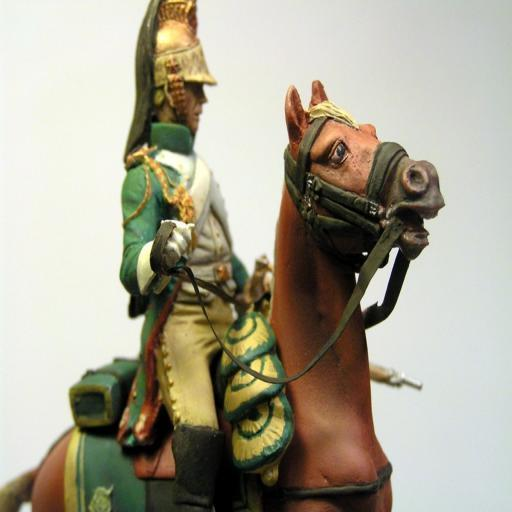horse: (0, 78, 444, 512)
